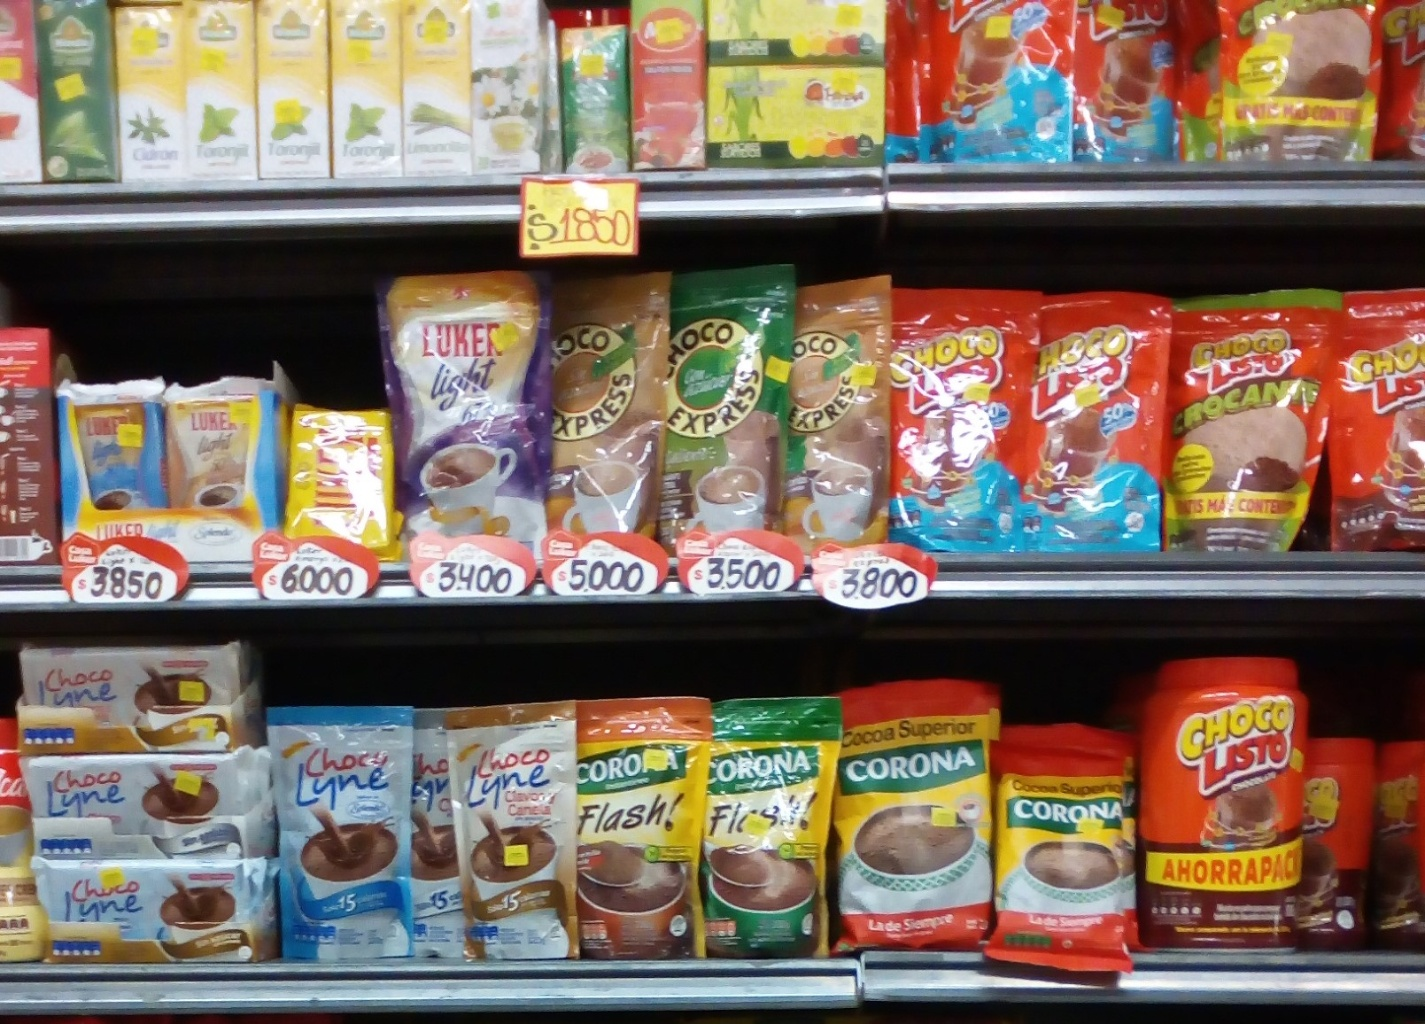COL0170103TRR00100: (1141, 634, 1300, 950)
